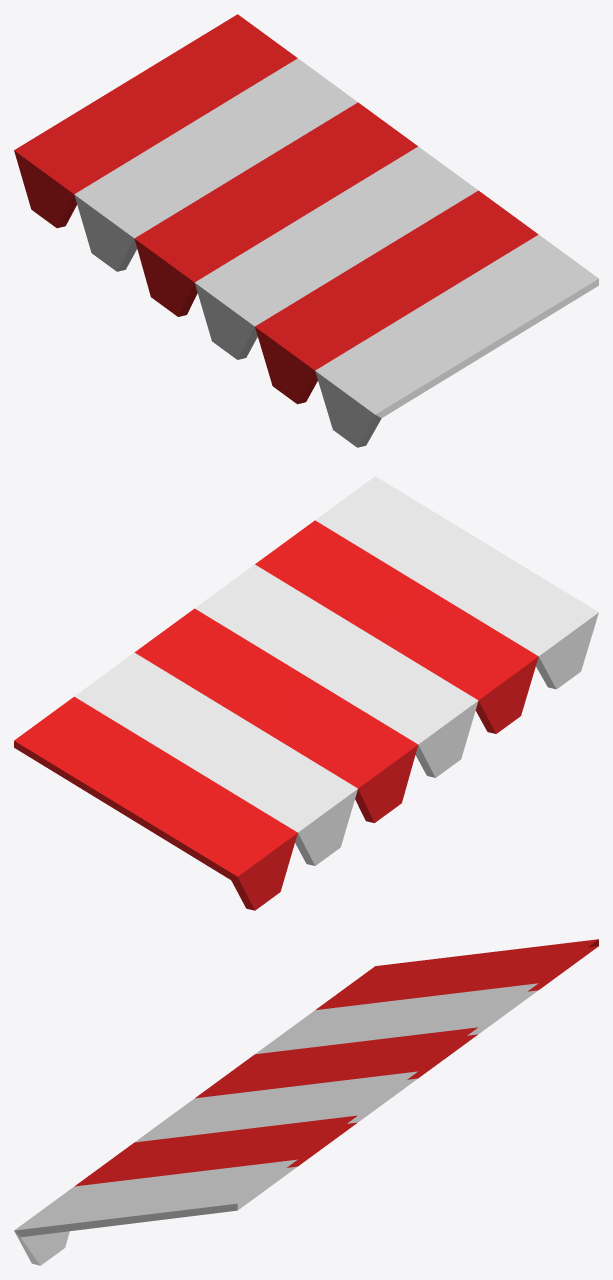
Rendered from Awning_3_A.fbx.
3 views of the same model, one above another, from view 1: azimuth 30°, elevation 25°; view 2: azimuth 150°, elevation 25°; view 3: azimuth 330°, elevation 25° (orthographic).
Parts seen in each view (by area): view 1: Awning_3_A; view 2: Awning_3_A; view 3: Awning_3_A.
Part boxes in pixels (box(x1,y1,x2,y2)): Awning_3_A: box(14, 14, 598, 447); Awning_3_A: box(14, 476, 598, 910); Awning_3_A: box(14, 939, 598, 1265).
Bounding box in the file's own units: 99.94 × 54.72 × 280.
